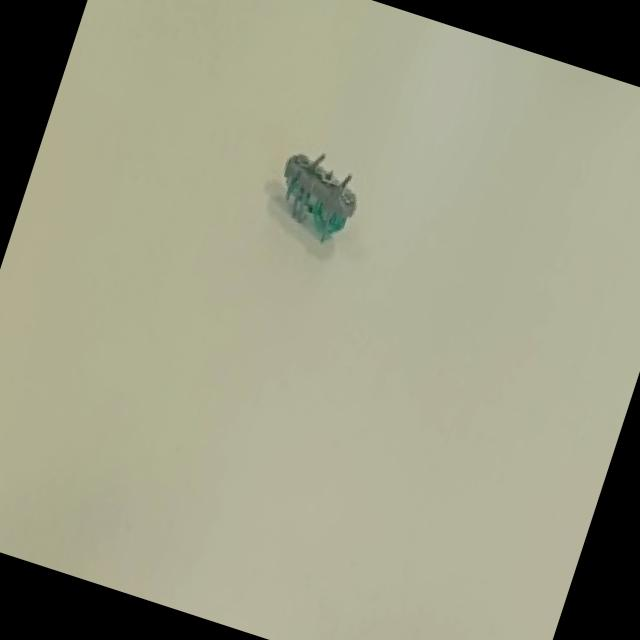5_NanoBug_GrisClaro: (227, 128, 386, 282)
